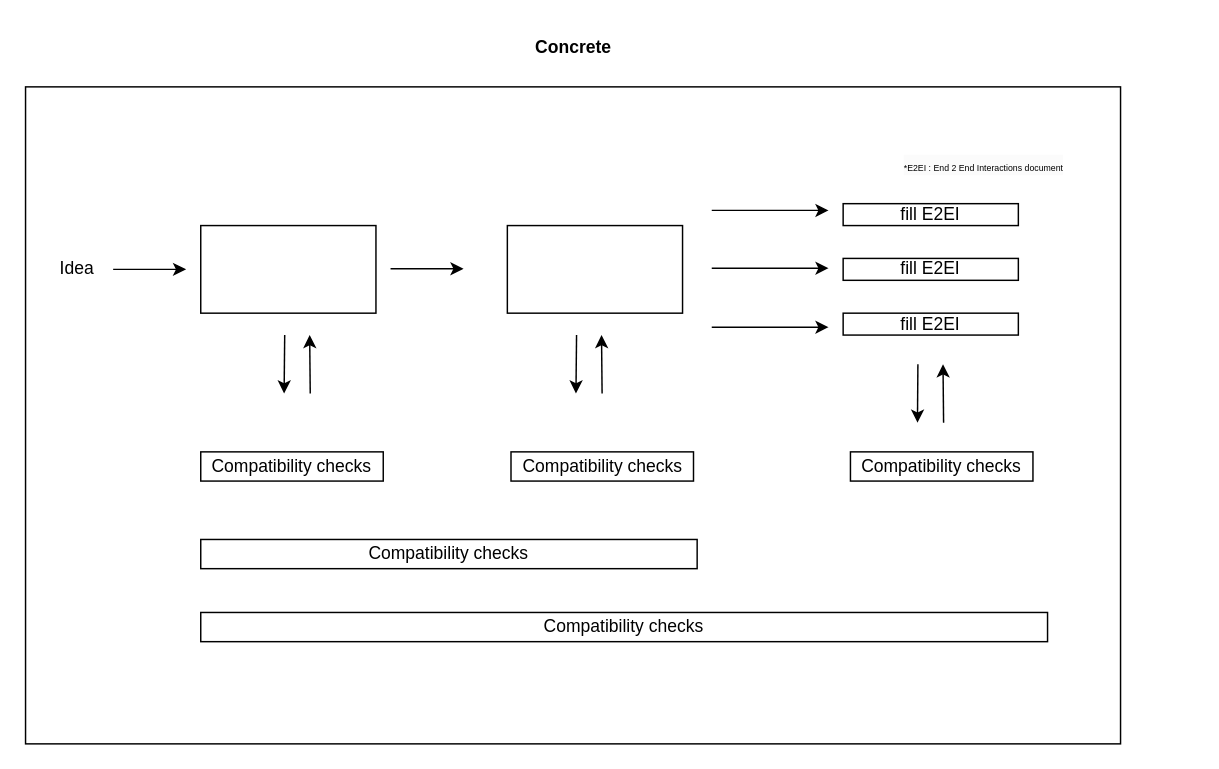
This 1219x769 diagram has some shape labels left out. Here are the shapes that lost their labels. From the top down, the centre of each, then its label:
At point (287, 268): "Understanding".
At point (594, 268): "User Story Maker".
